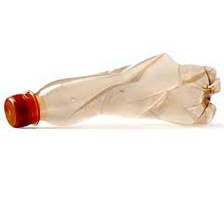bottle: (2, 51, 223, 137)
